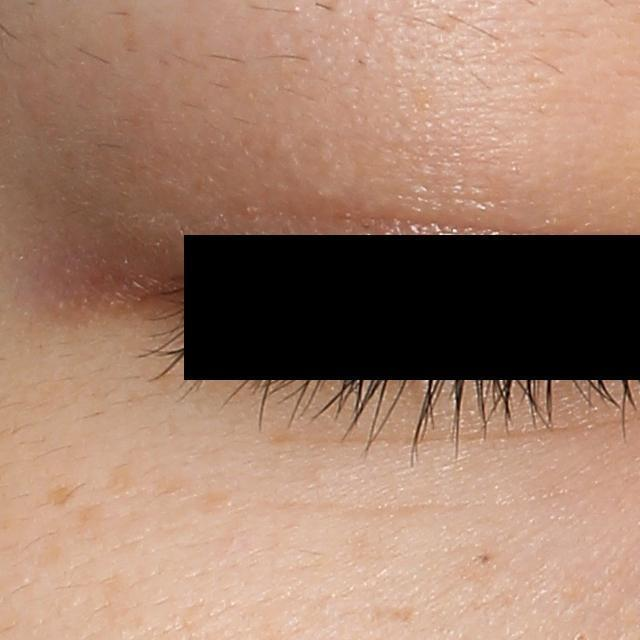melasma: (96, 463, 145, 501), (195, 485, 240, 517), (75, 503, 109, 542), (40, 483, 85, 512)
